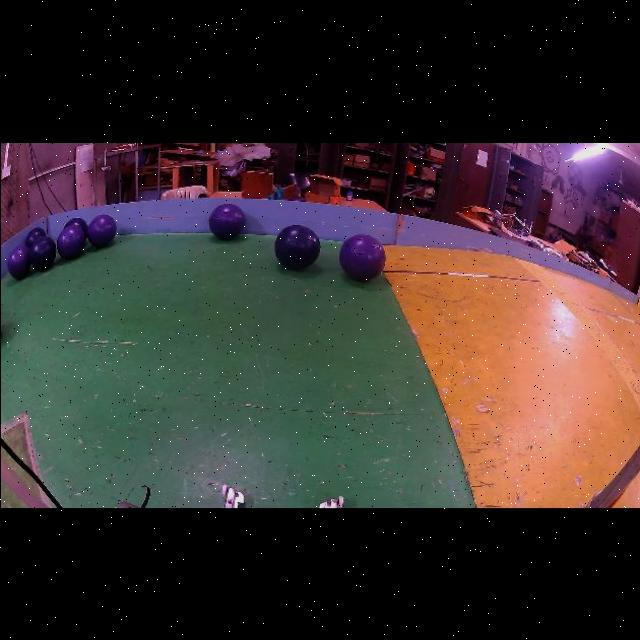B: (274, 223, 319, 268), (29, 234, 55, 269), (24, 226, 45, 246)
P: (339, 232, 384, 279), (208, 202, 245, 239), (55, 223, 85, 257), (86, 212, 115, 245), (6, 244, 30, 277)
